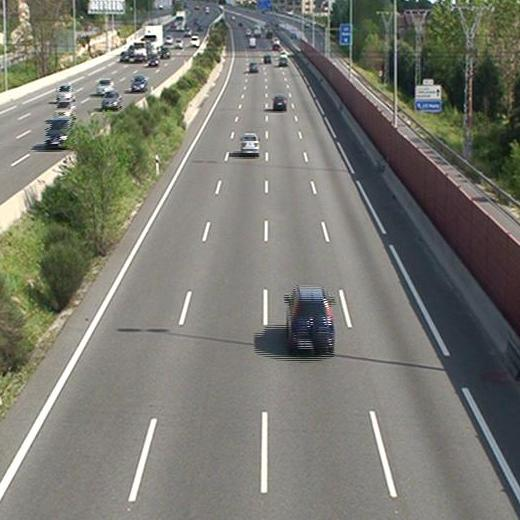car: (284, 286, 334, 351), (239, 133, 260, 153), (271, 94, 289, 111), (278, 55, 290, 67), (247, 62, 259, 73), (263, 53, 273, 64)
